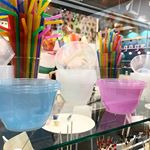cups: (1, 77, 63, 135), (96, 75, 149, 117)
